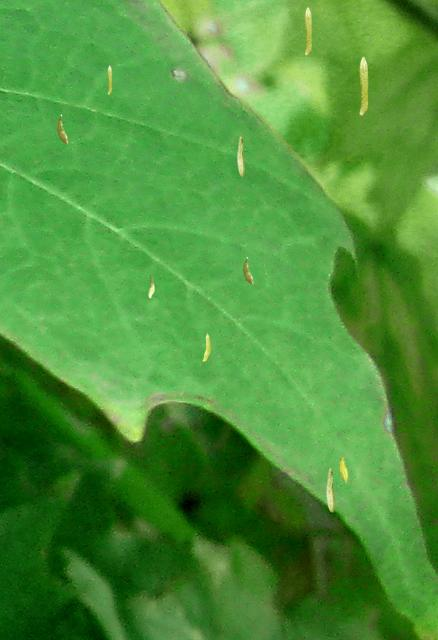ampalaya: (359, 56, 368, 115), (326, 468, 335, 512), (55, 114, 68, 144), (304, 7, 312, 55), (237, 136, 245, 176), (242, 256, 253, 285), (338, 454, 348, 484), (202, 332, 211, 361), (148, 273, 154, 298), (107, 65, 112, 94)
